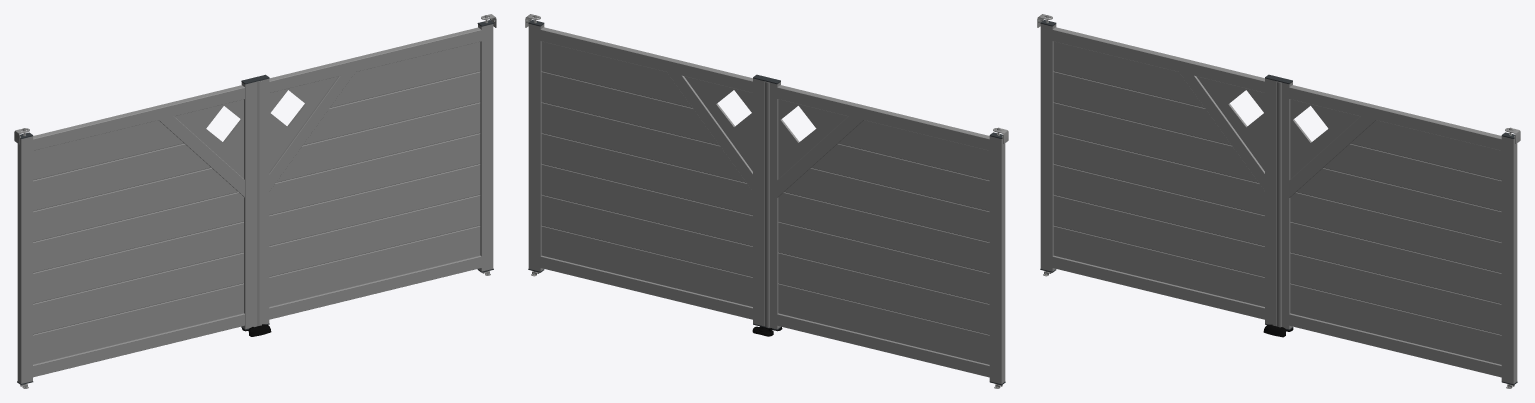
3 renders of one model, left to right at view 1: azimuth 30°, elevation 25°; view 2: azimuth 150°, elevation 25°; view 3: azimuth 330°, elevation 25°, orthographic.
Parts seen in each view (by area): view 1: Shape107412936, Shape107411759, Shape107412937, Shape107411760, Shape107412643, Shape107412740, Shape107412935, Shape107411754, Shape107412638, Shape107412939, Shape107412934, losange (+5 smaller); view 2: Shape107411759, Shape107412936, Shape107411760, Shape107412937, Shape107412643, Shape107412740, Shape107411754, Shape107412935, Shape107412739, Shape107412939, Shape107412934, Shape107412638 (+5 smaller); view 3: Shape107411759, Shape107412936, Shape107412937, Shape107411760, Shape107412740, Shape107412643, Shape107412935, Shape107411754, Shape107412638, Shape107412934, Shape107412939, Shape107412739 (+5 smaller).
Part boxes in pixels (left/top/right/bottom): Shape107412936: left=269, top=42, right=480, bottom=276; Shape107411759: left=33, top=120, right=243, bottom=334; Shape107412937: left=269, top=225, right=480, bottom=306; Shape107411760: left=33, top=283, right=243, bottom=364; Shape107412643: left=17, top=136, right=32, bottom=383; Shape107412740: left=478, top=24, right=493, bottom=271; Shape107412935: left=269, top=27, right=481, bottom=92; Shape107411754: left=33, top=85, right=244, bottom=150; Shape107412638: left=241, top=81, right=256, bottom=329; Shape107412939: left=269, top=255, right=481, bottom=319; Shape107412934: left=33, top=313, right=244, bottom=377; losange: left=174, top=99, right=243, bottom=178; Shape107411759: left=778, top=120, right=989, bottom=334; Shape107412936: left=541, top=41, right=752, bottom=276; Shape107411760: left=778, top=283, right=989, bottom=364; Shape107412937: left=541, top=225, right=752, bottom=306; Shape107412643: left=989, top=136, right=1005, bottom=383; Shape107412740: left=528, top=24, right=544, bottom=271; Shape107411754: left=777, top=85, right=989, bottom=150; Shape107412935: left=540, top=27, right=752, bottom=92; Shape107412739: left=753, top=78, right=764, bottom=326; Shape107412939: left=540, top=255, right=752, bottom=319; Shape107412934: left=777, top=313, right=989, bottom=377; Shape107412638: left=765, top=81, right=780, bottom=329; Shape107411759: left=1053, top=41, right=1264, bottom=276; Shape107412936: left=1290, top=120, right=1501, bottom=334; Shape107412937: left=1290, top=283, right=1501, bottom=364; Shape107411760: left=1053, top=225, right=1264, bottom=306; Shape107412740: left=1501, top=136, right=1517, bottom=383; Shape107412643: left=1040, top=24, right=1056, bottom=271; Shape107412935: left=1289, top=85, right=1501, bottom=150; Shape107411754: left=1052, top=27, right=1264, bottom=92; Shape107412638: left=1265, top=78, right=1276, bottom=326; Shape107412934: left=1052, top=255, right=1264, bottom=319; Shape107412939: left=1289, top=313, right=1501, bottom=377; Shape107412739: left=1277, top=81, right=1292, bottom=329.
Bounding box in the file's own units: 3260 × 1696 × 146.
Materials: 7 (2 with a texture image).
